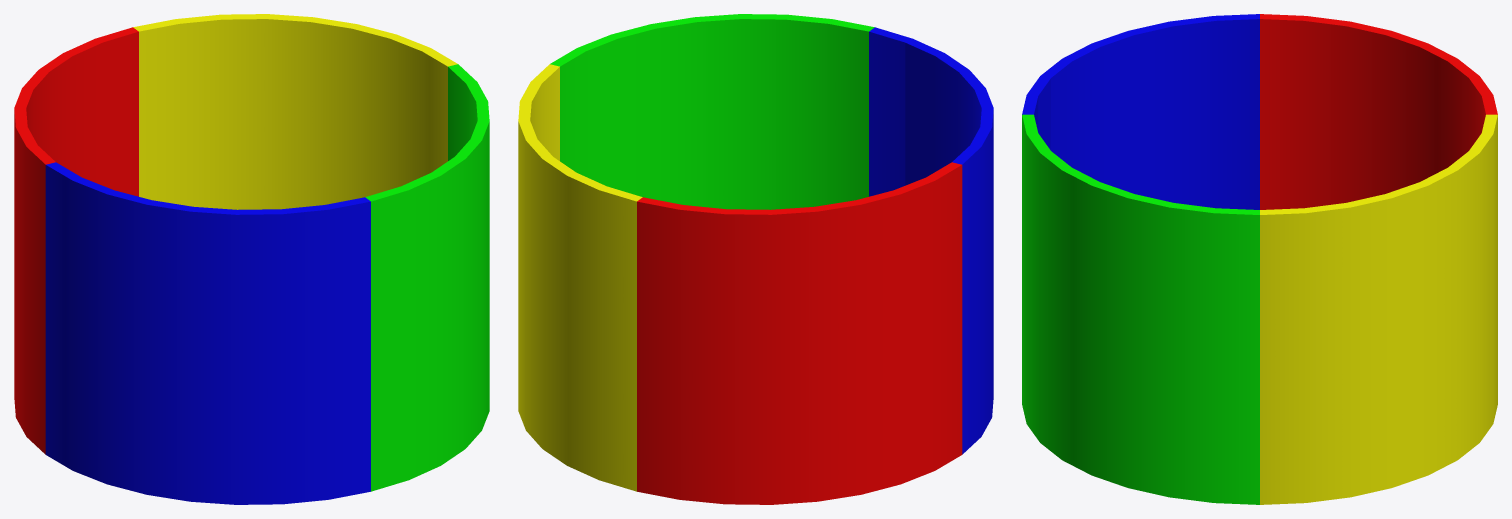
Rendered from tube-3-segmented.obj.
3 views of the same model, side by side, from view 1: azimuth 30°, elevation 25°; view 2: azimuth 150°, elevation 25°; view 3: azimuth 270°, elevation 25° (orthographic).
Visible parts, largest first — view 1: pCylinder1; view 2: pCylinder1; view 3: pCylinder1.
Boxes of the visible parts, x1=… form: pCylinder1: x1=14, y1=14, x2=489, y2=504; pCylinder1: x1=518, y1=14, x2=993, y2=504; pCylinder1: x1=1022, y1=14, x2=1497, y2=504.
Bounding box in the file's own units: 2.11 × 1.41 × 2.11.
